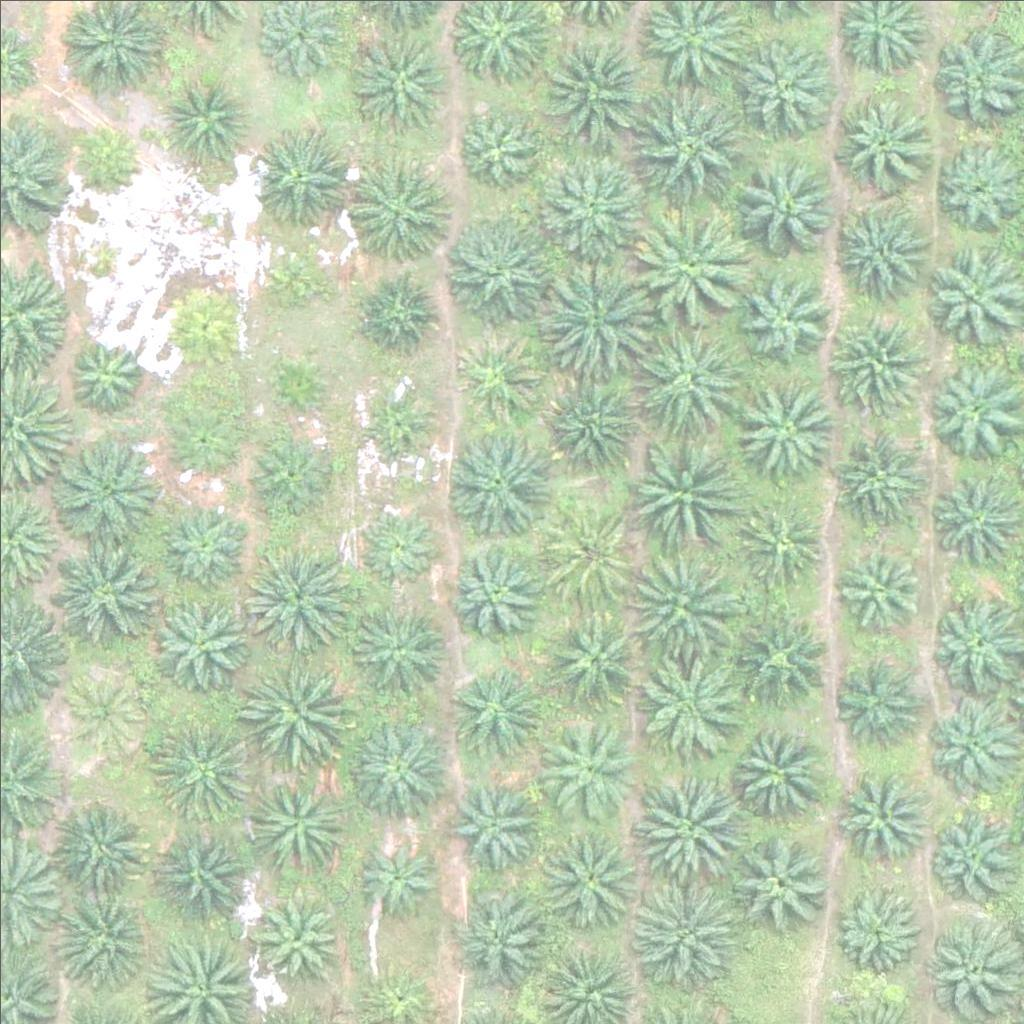Kelapa_Sawit: (636, 319, 749, 433), (627, 547, 740, 661), (630, 876, 743, 989), (632, 89, 745, 202), (243, 541, 356, 654), (242, 653, 355, 766), (633, 640, 746, 753), (627, 769, 740, 882), (532, 151, 644, 265), (626, 444, 738, 558), (635, 206, 747, 319), (545, 258, 657, 371), (540, 37, 652, 150), (442, 217, 554, 330), (145, 711, 257, 824), (443, 427, 555, 540), (47, 528, 159, 641), (52, 435, 164, 548), (728, 831, 828, 932), (443, 887, 543, 988), (160, 824, 260, 925), (57, 893, 157, 994), (830, 91, 930, 192), (829, 315, 929, 416), (732, 264, 832, 365), (734, 154, 834, 255), (346, 23, 446, 124), (255, 125, 355, 226), (152, 591, 252, 692), (248, 772, 348, 873), (350, 712, 450, 813), (348, 599, 448, 700), (446, 540, 546, 641), (540, 722, 640, 823), (543, 612, 643, 713), (827, 427, 927, 528), (917, 921, 1017, 1021), (536, 830, 636, 930), (923, 241, 1023, 341), (822, 205, 922, 305), (738, 374, 838, 474), (735, 37, 835, 137), (542, 370, 642, 470), (349, 162, 449, 262), (56, 797, 156, 897), (537, 504, 637, 604), (726, 722, 826, 822), (726, 608, 826, 708), (823, 657, 923, 757), (831, 766, 931, 866), (922, 693, 1022, 793), (160, 283, 248, 372), (833, 891, 921, 979), (256, 893, 344, 981), (160, 397, 248, 485), (59, 666, 147, 754), (355, 499, 443, 587), (452, 667, 540, 755), (453, 776, 541, 864), (739, 501, 827, 589), (837, 539, 925, 627), (159, 500, 246, 589), (357, 829, 444, 917), (453, 334, 540, 422), (936, 142, 1023, 230), (449, 100, 536, 188), (354, 270, 441, 358), (162, 73, 249, 161), (65, 329, 152, 417), (250, 427, 337, 515), (70, 124, 145, 200), (262, 347, 337, 423), (258, 239, 333, 315), (356, 377, 431, 452)
